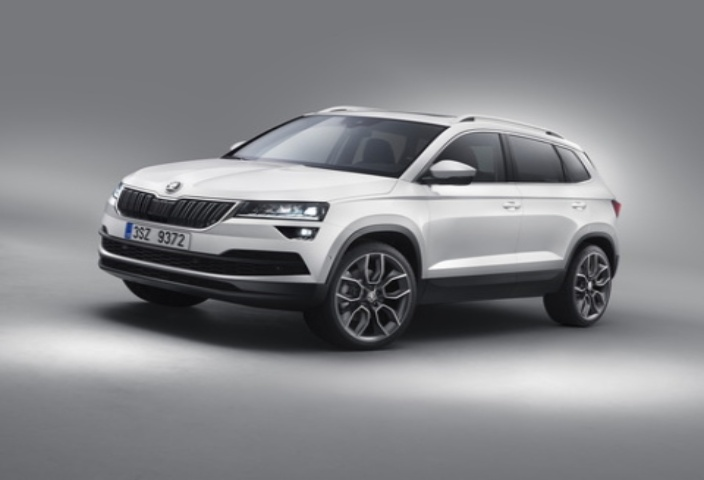camper: (99, 81, 643, 374)
